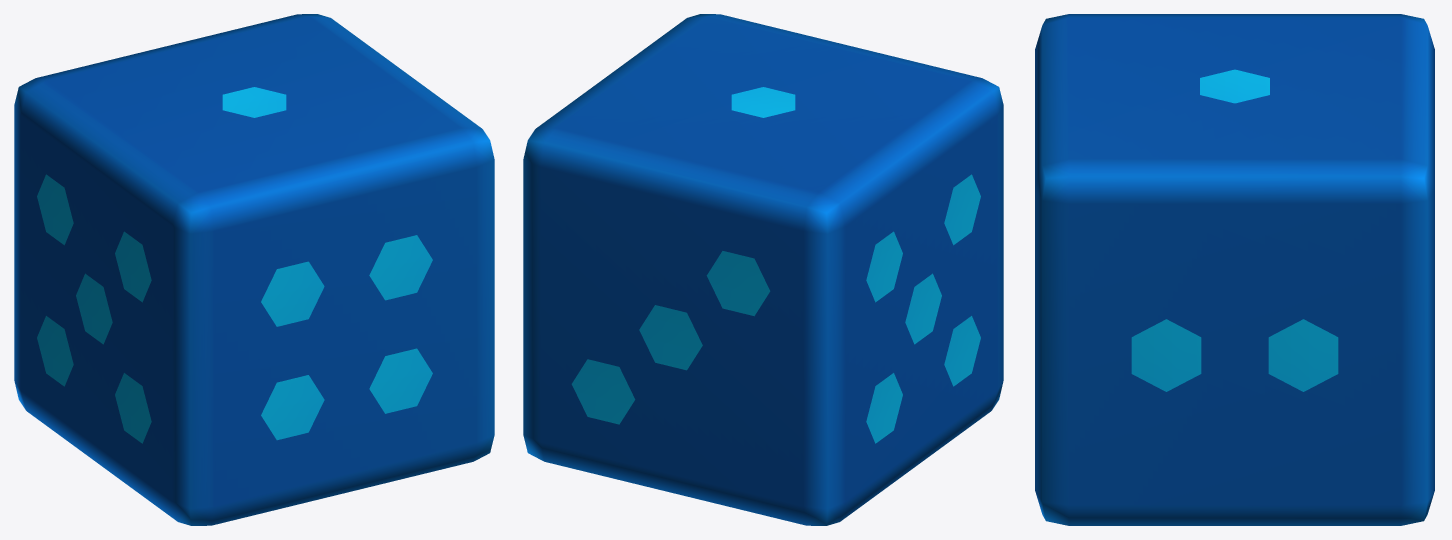
The model's file is dice.fbx.
The picture shows the model from 3 angles, left to right: view 1: azimuth 30°, elevation 25°; view 2: azimuth 150°, elevation 25°; view 3: azimuth 270°, elevation 25°; orthographic projection. The views are drawn at different scales.
Parts seen in each view (by area): view 1: dice; view 2: dice; view 3: dice.
Boxes of the visible parts, x1,y1,x2,y2 form: dice: (14, 14, 494, 525); dice: (523, 14, 1003, 525); dice: (1035, 14, 1434, 525).
Size of the model in its own units: 8.13 by 8.13 by 8.13.
